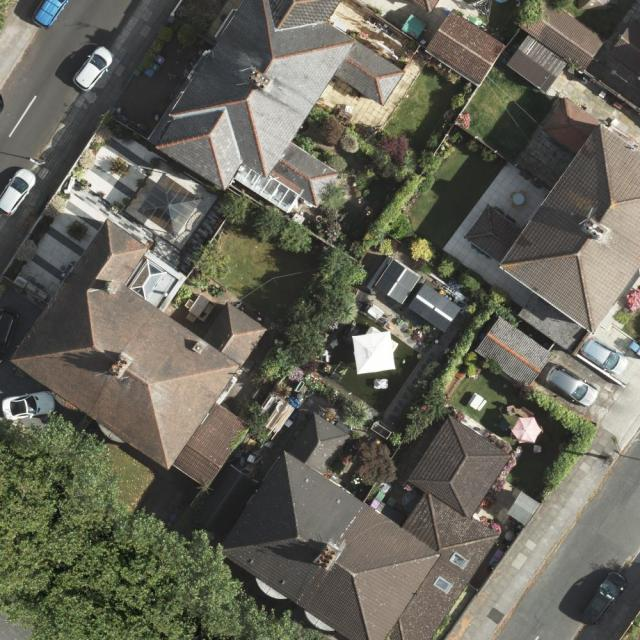roof: (7, 221, 266, 488), (221, 412, 514, 640), (144, 0, 407, 212), (463, 96, 640, 334), (507, 0, 606, 95), (424, 12, 505, 88), (475, 318, 552, 387), (609, 11, 640, 79), (409, 0, 440, 14)
skylight: (233, 165, 300, 215), (129, 258, 167, 300), (431, 575, 454, 596), (448, 551, 470, 570)
